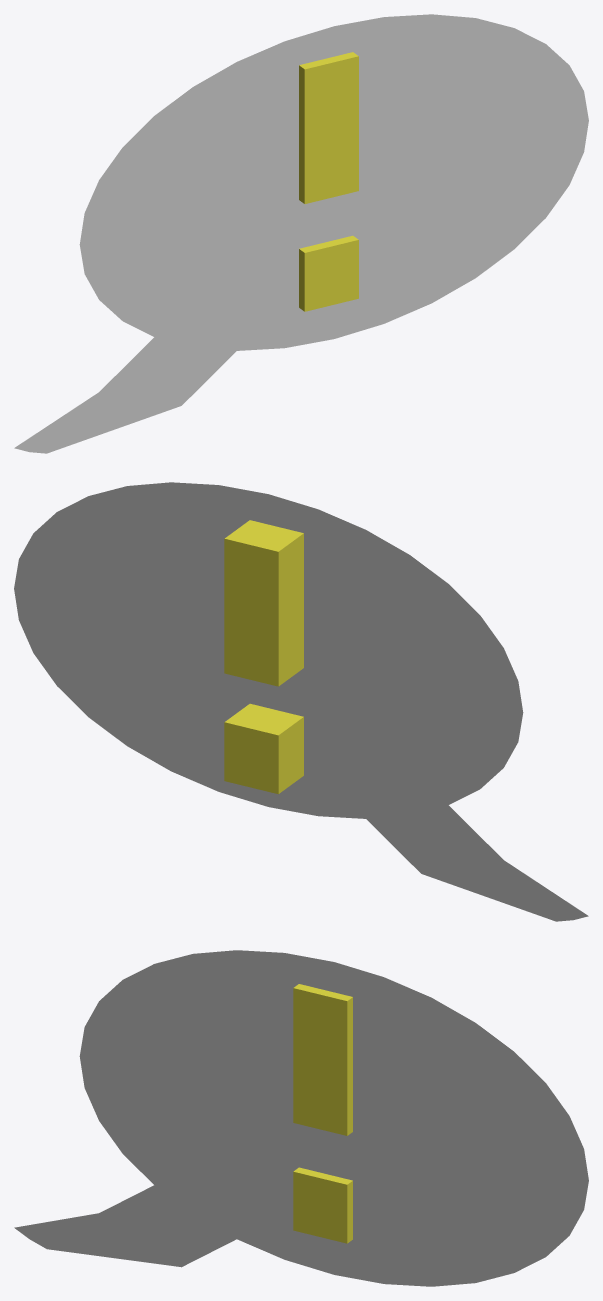
Rendered from notif.fbx.
The picture shows the model from 3 angles, top to bottom: view 1: azimuth 30°, elevation 25°; view 2: azimuth 150°, elevation 25°; view 3: azimuth 330°, elevation 25°; orthographic projection.
Visible parts, largest first — view 1: Notif; view 2: Notif; view 3: Notif.
Boxes of the visible parts, x1,y1,x2,y2 form: Notif: (14,14,588,453); Notif: (14,482,588,921); Notif: (14,950,588,1286).
Size of the model in its own units: 226 by 134 by 21.22.
